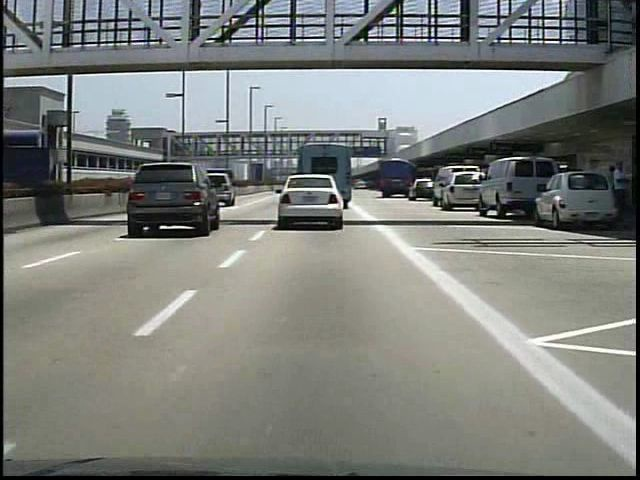person: (606, 153, 633, 230)
